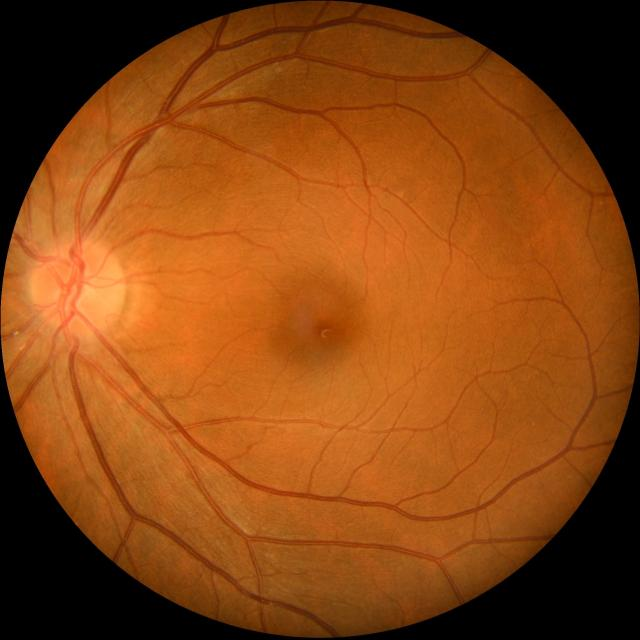OC: (63, 276, 91, 305)
OD: (32, 240, 124, 334)
